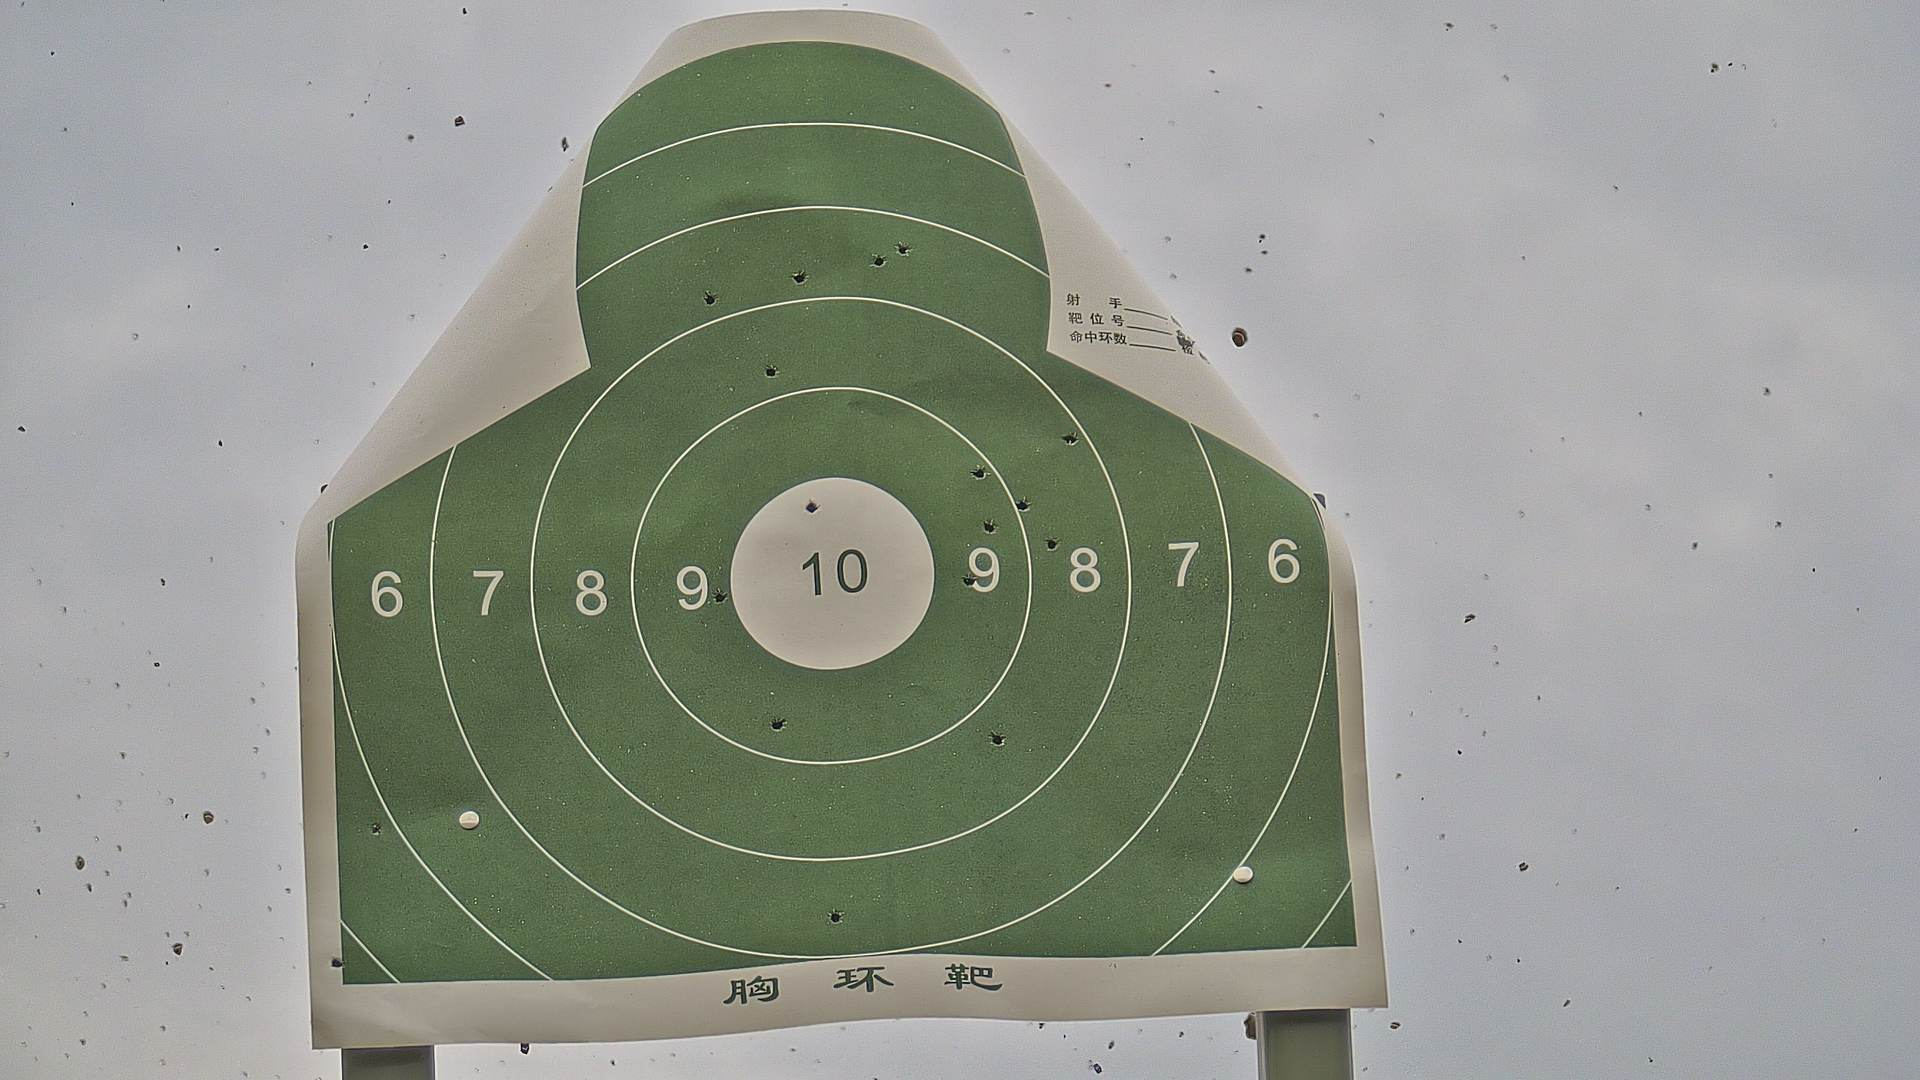hole: (891, 237, 916, 258), (866, 251, 891, 272), (698, 287, 721, 309), (789, 269, 811, 287), (969, 464, 992, 483), (765, 363, 785, 382), (711, 587, 731, 607), (326, 953, 345, 973), (1013, 495, 1033, 513), (988, 731, 1009, 748), (825, 909, 847, 926), (981, 517, 1000, 535), (769, 717, 789, 735), (960, 571, 978, 588), (1044, 535, 1062, 553), (1062, 431, 1081, 446), (804, 498, 822, 514), (369, 822, 382, 837)
kernel: (825, 568, 832, 574)
target: (324, 45, 1362, 985)
ten: (721, 473, 939, 671)
